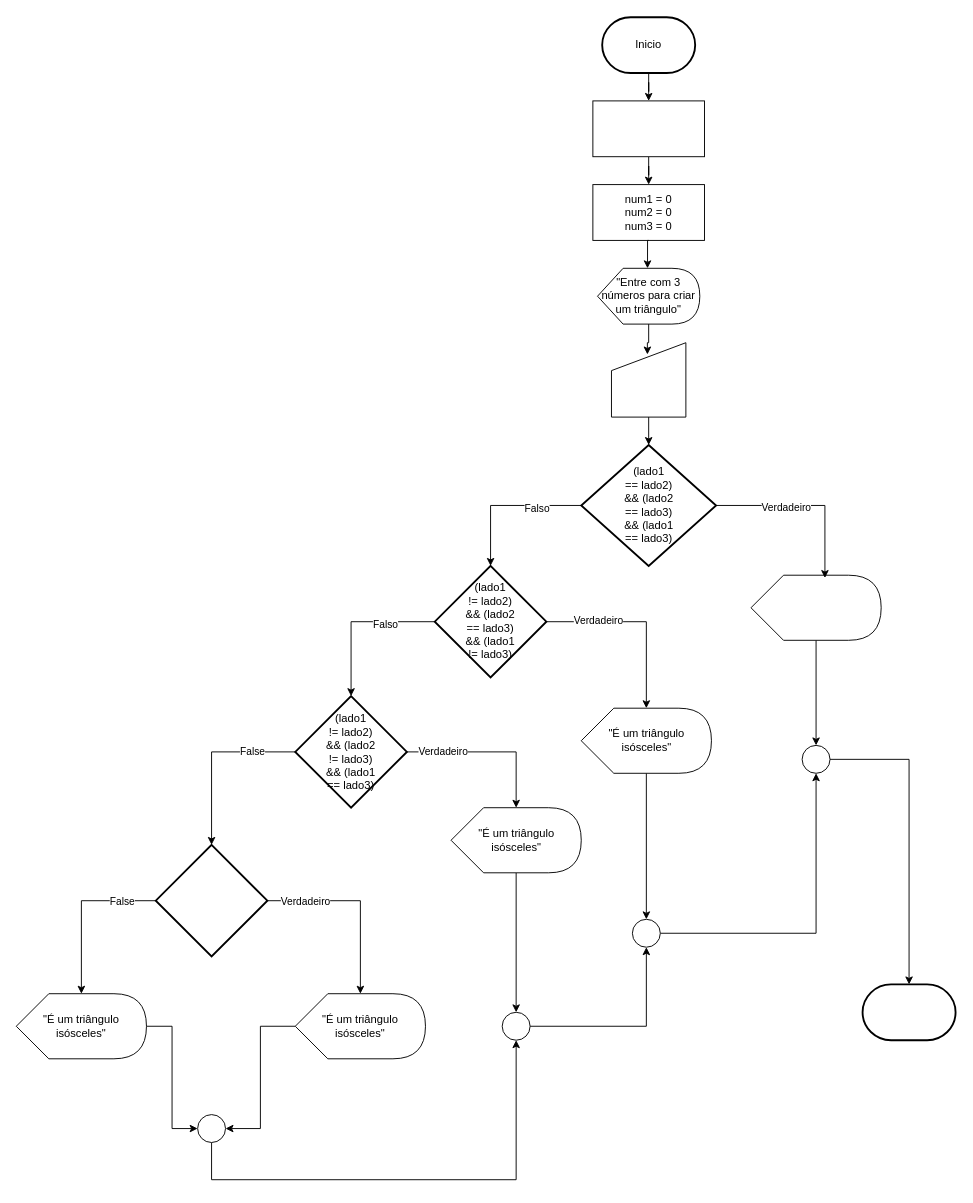
The diagram is 973 pixels wide and 1203 high, and some of its shapes have lost their labels. The centre of each missing label's shape, as x and y in pixels:
"É um triângulo equilátero": (815,607)
(lado1 == l ado2) && (lado2 != lado3) && (lado1 != lado3): (211,900)
Fim: (908,1012)
int num1 int num2 int num3: (648,128)
num1, num2, num3: (648,379)
